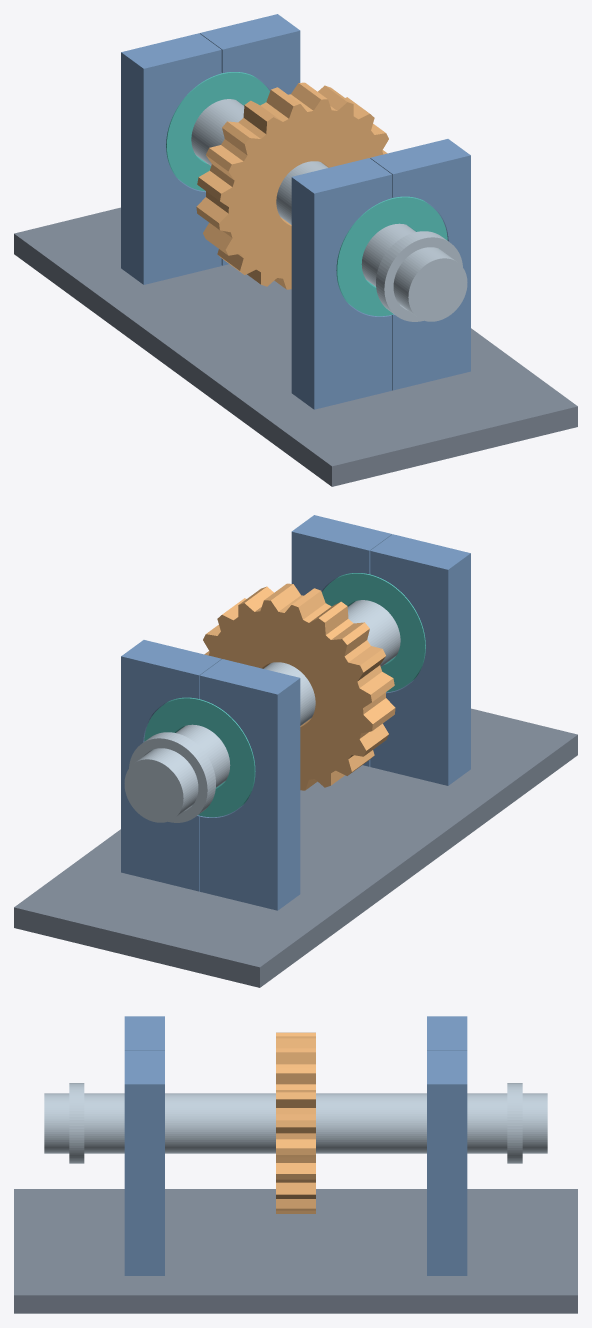
Rendered from assembly.glb.
The picture shows the model from 3 angles, top to bottom: view 1: azimuth 30°, elevation 25°; view 2: azimuth 150°, elevation 25°; view 3: azimuth 270°, elevation 25°; orthographic projection. The views are drawn at different scales.
Visible parts, largest first — view 1: base, gear, rear_housing_left, front_housing_left, rear_housing_right, shaft, front_housing_right, rear_bearing, front_bearing, rear_retainer; view 2: base, gear, front_housing_left, rear_housing_left, front_housing_right, shaft, rear_housing_right, front_bearing, rear_bearing, front_retainer; view 3: base, shaft, front_housing_right, rear_housing_right, gear, front_housing_left, rear_housing_left, front_retainer, rear_retainer.
Boxes of the visible parts, x1,y1,x2,y2 form: base: [14, 207, 577, 486]; gear: [196, 82, 388, 289]; rear_housing_left: [291, 158, 392, 409]; front_housing_left: [121, 33, 221, 284]; rear_housing_right: [370, 139, 470, 390]; shaft: [191, 99, 467, 321]; front_housing_right: [199, 14, 300, 265]; rear_bearing: [336, 196, 447, 316]; front_bearing: [166, 72, 269, 191]; rear_retainer: [376, 231, 462, 321]; base: [14, 708, 577, 987]; gear: [203, 583, 395, 790]; front_housing_left: [199, 659, 300, 910]; rear_housing_left: [370, 534, 470, 785]; front_housing_right: [121, 640, 221, 891]; shaft: [124, 600, 400, 822]; rear_housing_right: [291, 515, 392, 766]; front_bearing: [144, 697, 255, 817]; rear_bearing: [322, 573, 425, 692]; front_retainer: [129, 732, 215, 822]; base: [14, 1189, 577, 1313]; shaft: [44, 1093, 547, 1153]; front_housing_right: [427, 1050, 467, 1275]; rear_housing_right: [124, 1050, 164, 1275]; gear: [276, 1032, 315, 1213]; front_housing_left: [427, 1016, 467, 1050]; rear_housing_left: [124, 1016, 164, 1050]; front_retainer: [507, 1083, 522, 1163]; rear_retainer: [69, 1083, 84, 1163].
Size of the model in its own units: 0.05 by 0.0479 by 0.112.
